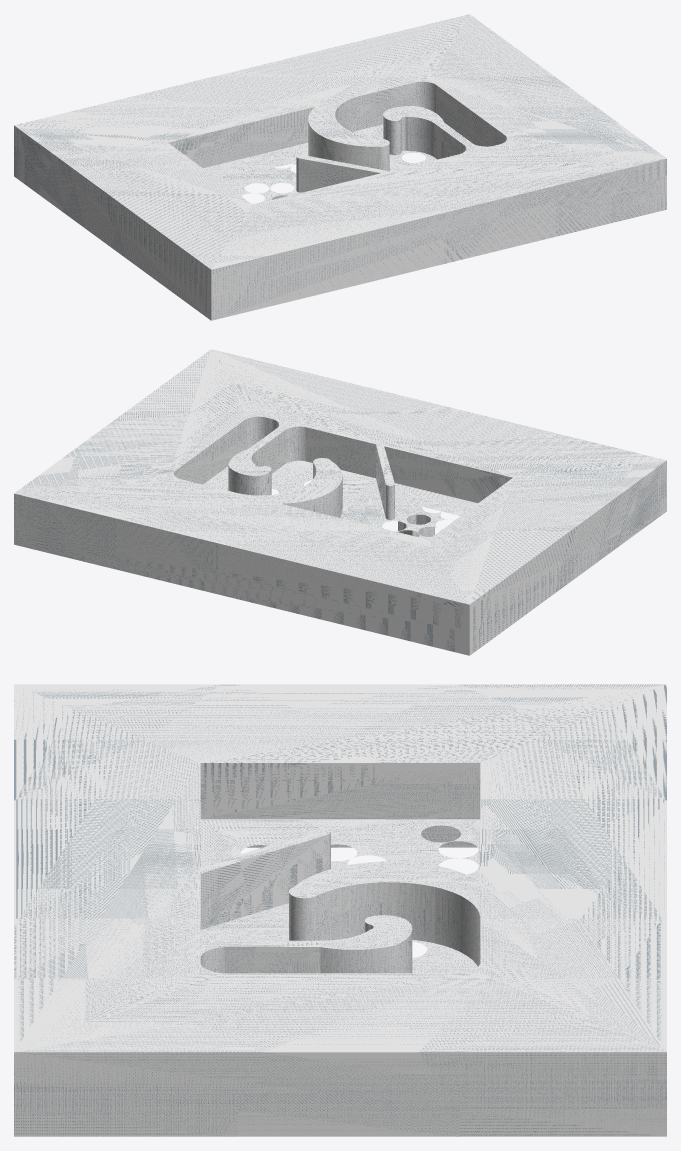
The model's file is Level 3 (dae).dae.
3 renders of one model, top to bottom at view 1: azimuth 30°, elevation 25°; view 2: azimuth 150°, elevation 25°; view 3: azimuth 270°, elevation 25°, orthographic. The views are drawn at different scales.
Visible parts, largest first — view 1: SketchUp (×2); view 2: SketchUp (×3); view 3: SketchUp (×2).
Part boxes in pixels (left/top/right/bottom): SketchUp (×2): left=14, top=14, right=666, bottom=320; SketchUp (×3): left=14, top=349, right=666, bottom=655; SketchUp (×2): left=14, top=684, right=666, bottom=1136.
Bounding box in the file's own units: 1102 × 827 × 118.
